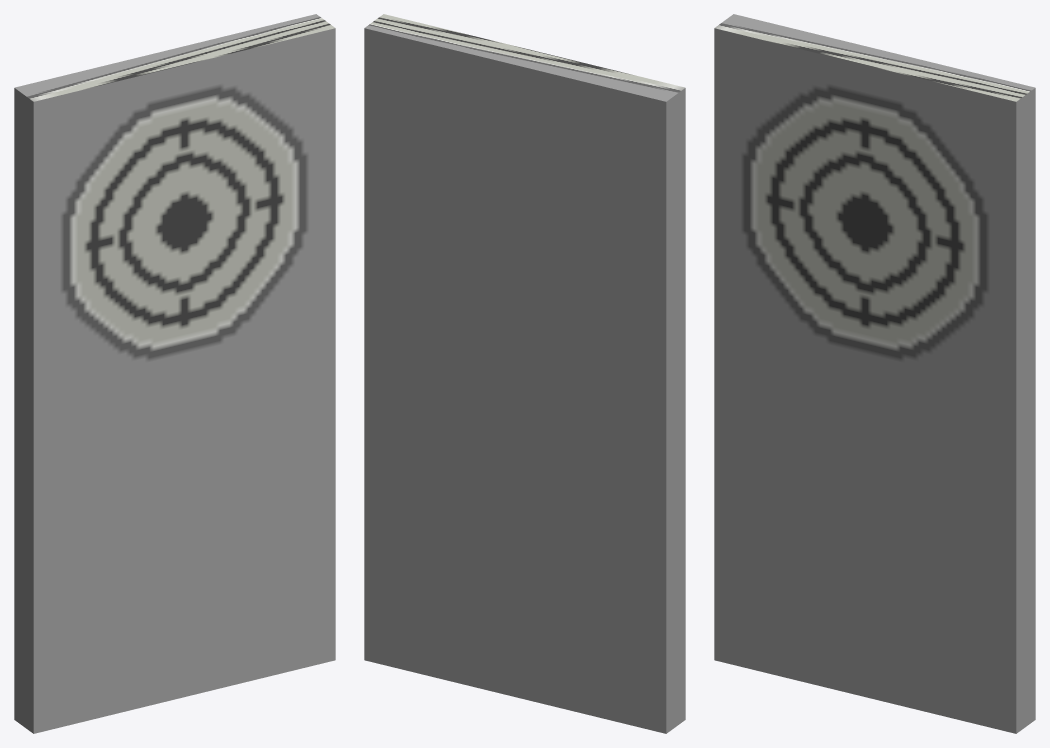
File: target.glb
3 renders of one model, left to right at view 1: azimuth 30°, elevation 25°; view 2: azimuth 150°, elevation 25°; view 3: azimuth 330°, elevation 25°, orthographic.
Visible parts, largest first — view 1: Cube; view 2: Cube; view 3: Cube.
Boxes of the visible parts, <box> form: Cube: <box>14,14,335,733</box>; Cube: <box>364,14,685,733</box>; Cube: <box>714,14,1035,733</box>.
Size of the model in its own units: 0.9 by 1.8 by 0.1.
Materials: 1 (1 with a texture image).
